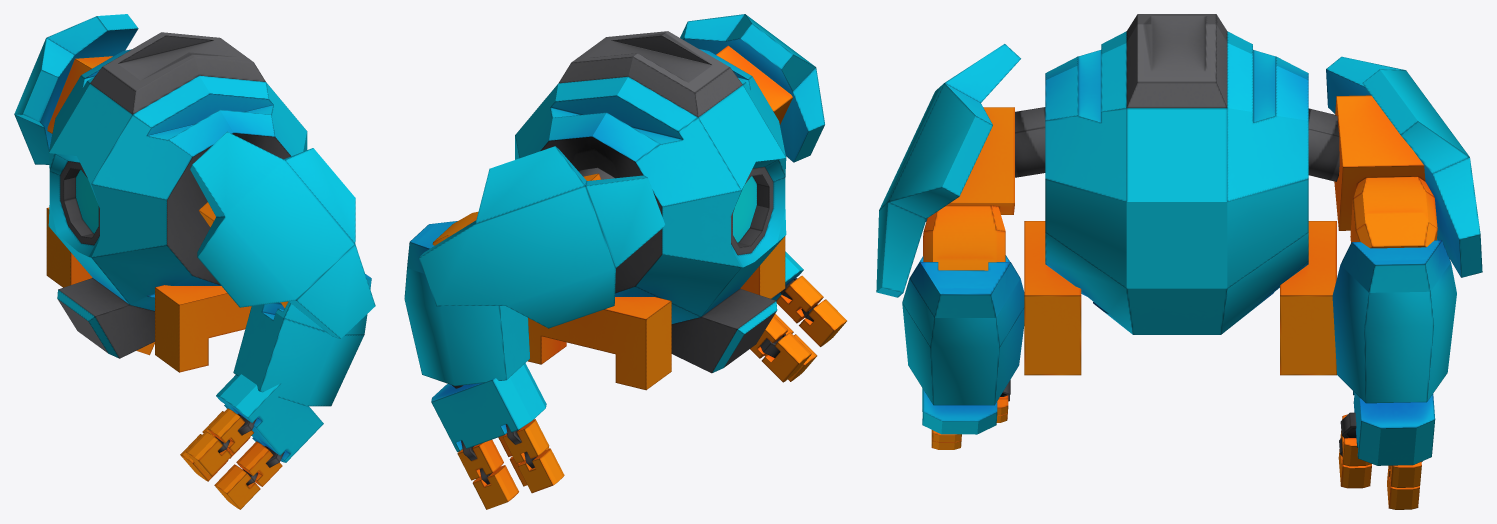
The model's file is Body_Idle19.obj.
3 views of the same model, side by side, from view 1: azimuth 30°, elevation 25°; view 2: azimuth 150°, elevation 25°; view 3: azimuth 270°, elevation 25° (orthographic). The views are drawn at different scales.
Visible parts, largest first — view 1: Plane001, Object006, Object008, Object007, Object002; view 2: Plane001, Object002, Object004, Object003, Object006, Object008; view 3: Plane001, Object002, Object006, Object003, Object007, Object004, Object008, Object001, Object005.
Boxes of the visible parts, x1,y1,x2,y2 form: Plane001: (46, 32, 307, 372); Object006: (190, 131, 375, 338); Object008: (180, 374, 323, 509); Object007: (233, 274, 371, 406); Object002: (14, 14, 138, 164); Plane001: (515, 31, 786, 390); Object002: (419, 146, 665, 328); Object004: (431, 363, 564, 509); Object003: (404, 221, 529, 385); Object006: (680, 14, 824, 162); Object008: (750, 251, 846, 382); Plane001: (1024, 14, 1336, 375); Object002: (1326, 56, 1482, 277); Object006: (876, 44, 1020, 297); Object003: (1332, 240, 1456, 403); Object007: (902, 255, 1024, 405); Object004: (1338, 391, 1435, 509); Object008: (922, 380, 1010, 449); Object001: (1308, 108, 1339, 181); Object005: (1015, 107, 1045, 177).
Bounding box in the file's own units: 97.69 × 150 × 183.
